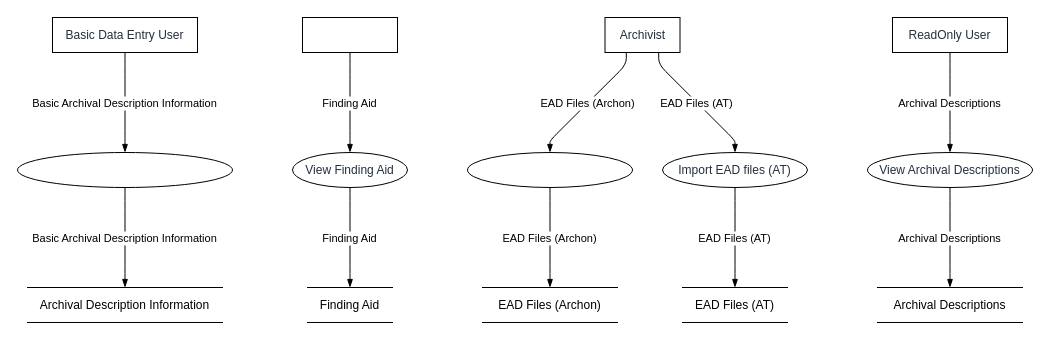
This 1050x340 diagram has some shape labels left out. Each missing label, with the box of its shape:
Create/Update Archival Description: (16, 152, 232, 188)
Import EAD files (Archon): (466, 152, 632, 188)
Researcher: (302, 16, 398, 52)
